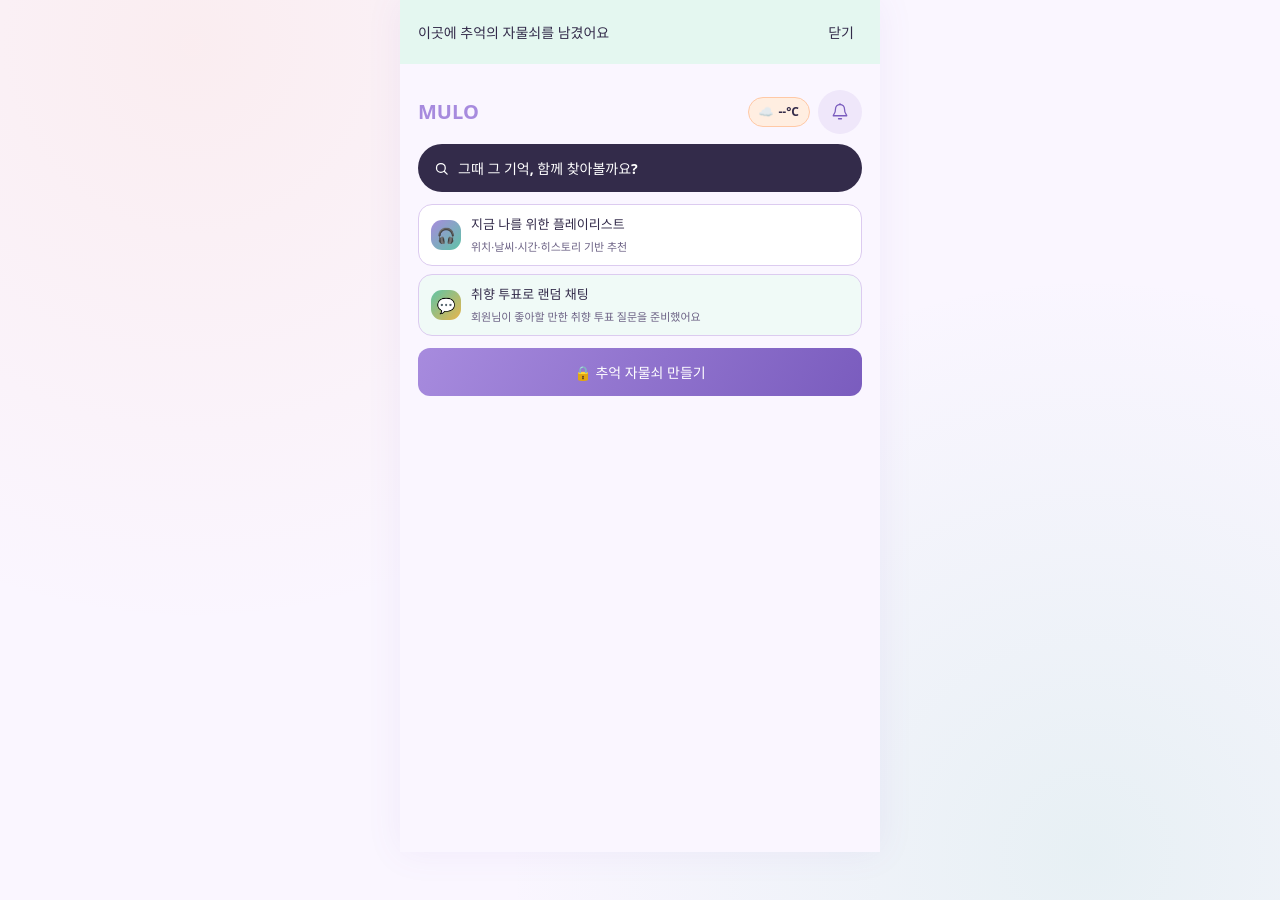
Scenario: HomePage weather location handling › shows the saved memory confirmation and lets the user dismiss it
Expected: the text "이곳에 추억의 자물쇠를 남겼어요" is shown, [418,22,609,42]
Click the button with aria-label "저장 완료 안내 닫기": [841, 32] box [820,10,862,54]
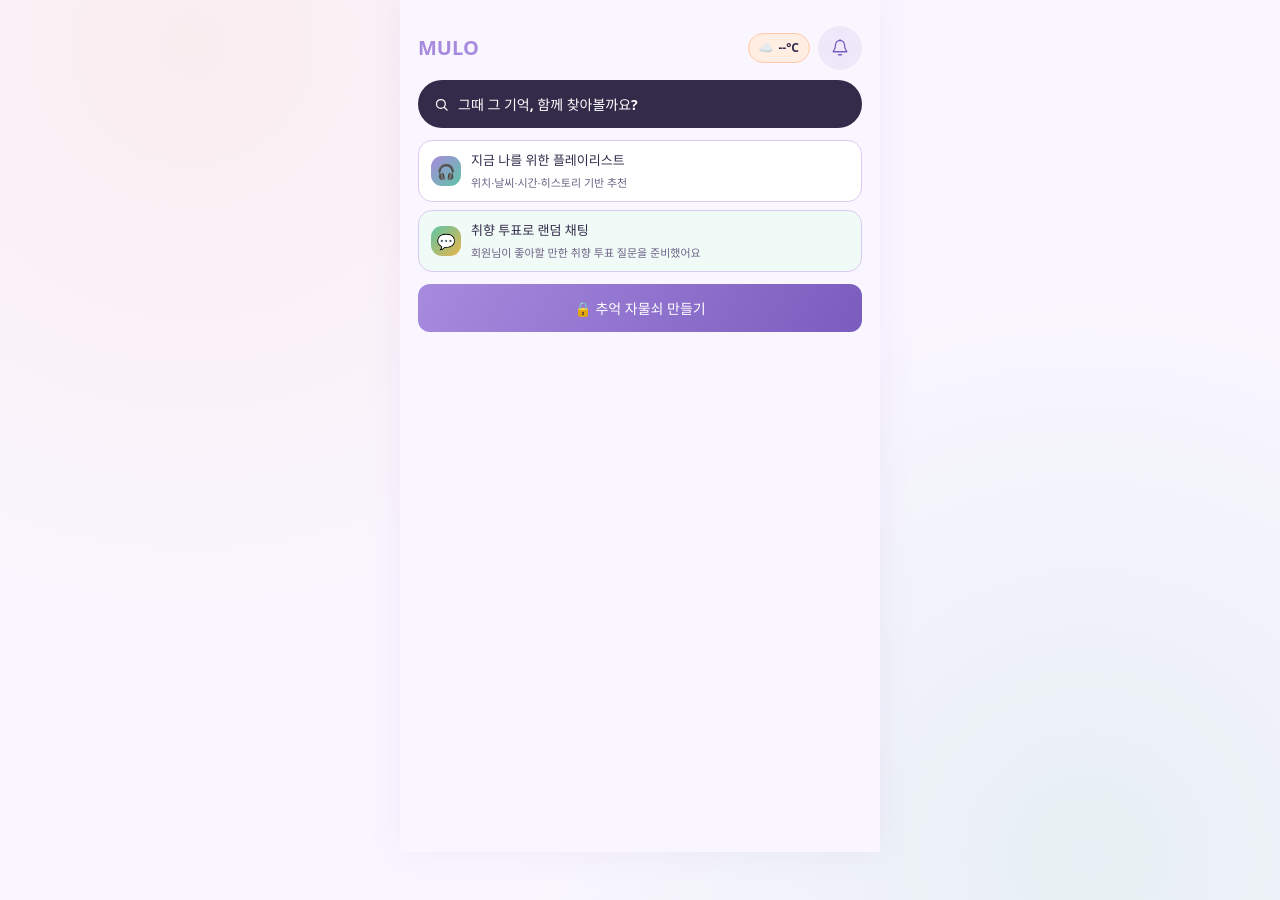
Expected: the text "이곳에 추억의 자물쇠를 남겼어요" is gone
